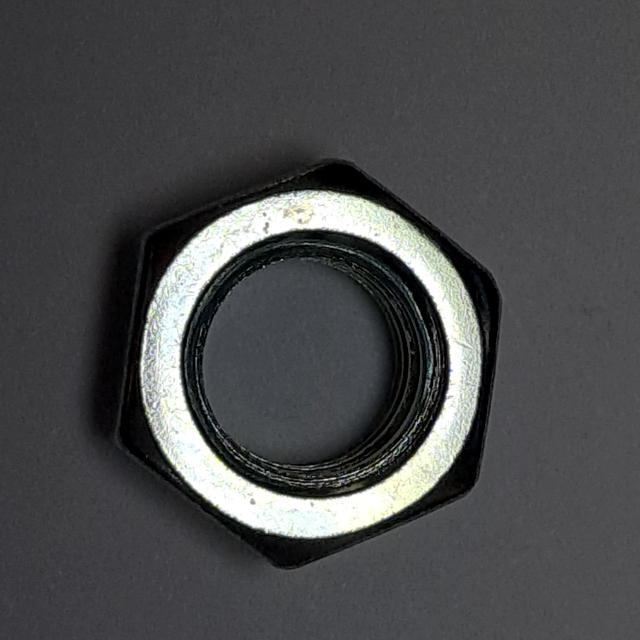Excellent: (102, 145, 510, 579)
